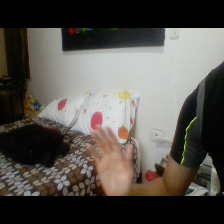left: (82, 120, 140, 196)
